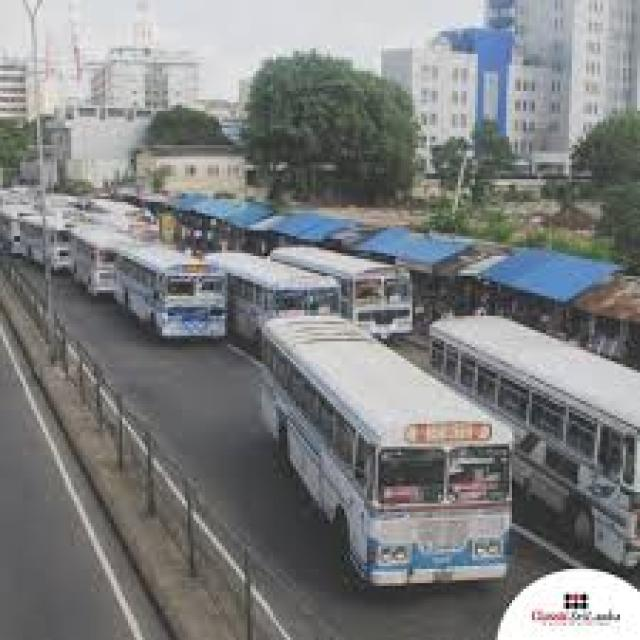bus: (262, 319, 509, 586), (430, 316, 637, 566), (270, 247, 410, 338), (208, 253, 338, 344), (111, 245, 225, 336), (74, 228, 128, 296), (85, 199, 156, 242), (20, 216, 68, 270)
